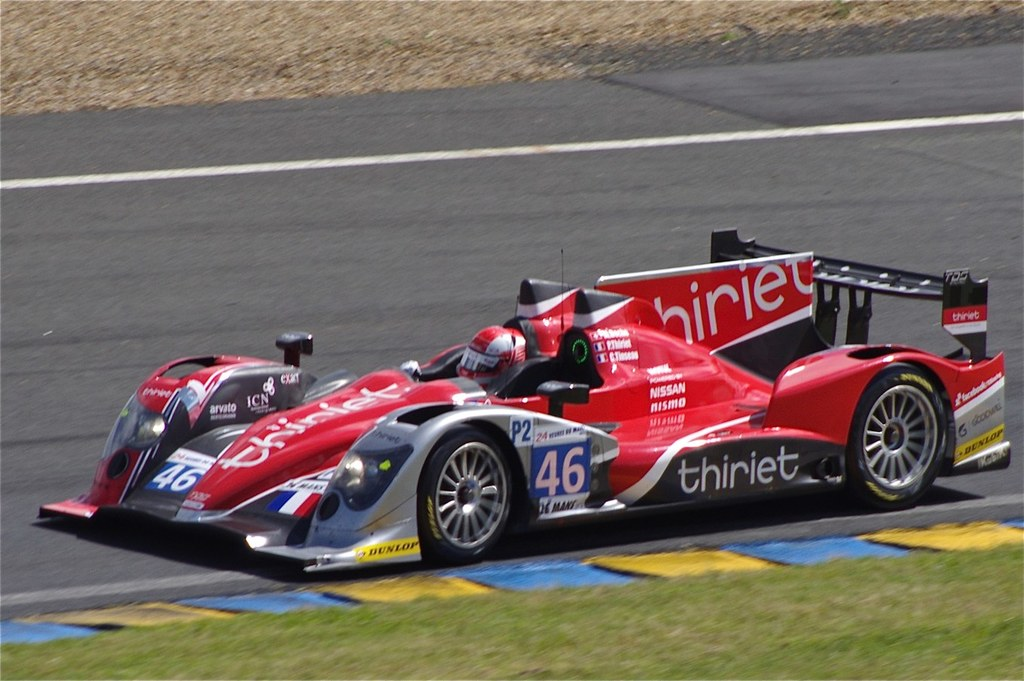Car: (35, 222, 1014, 572)
